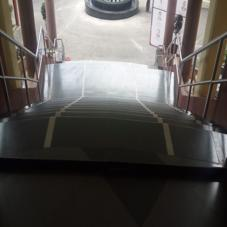Animal: (52, 93, 167, 141)
